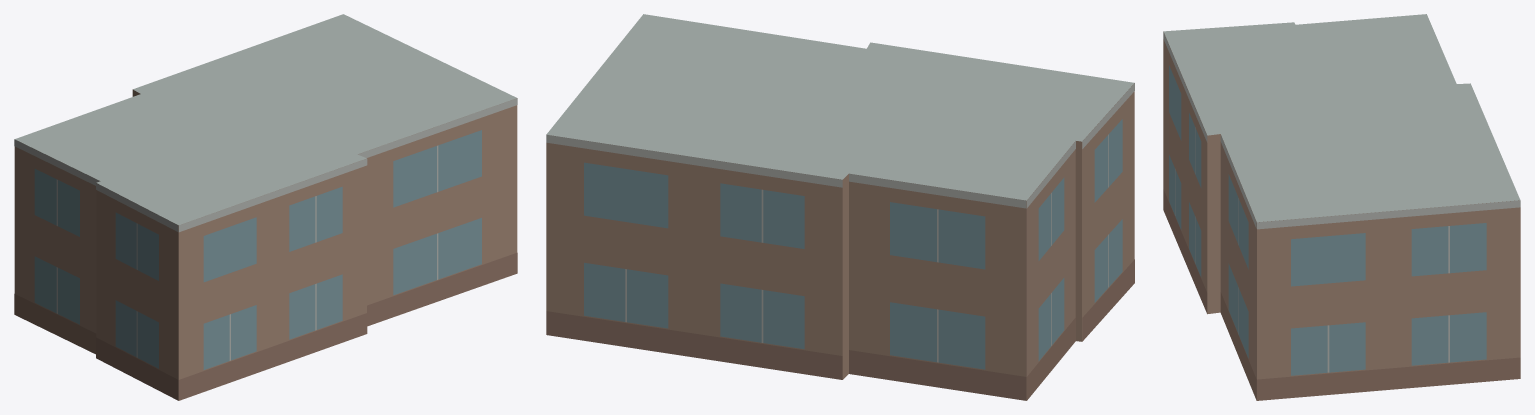
The model's file is survey-upis-32652783.glb.
The picture shows the model from 3 angles, left to right: view 1: azimuth 30°, elevation 25°; view 2: azimuth 150°, elevation 25°; view 3: azimuth 270°, elevation 25°; orthographic projection. The views are drawn at different scales.
Visible parts, largest first — view 1: survey-upis-32652783.tmp; view 2: survey-upis-32652783.tmp; view 3: survey-upis-32652783.tmp.
Part boxes in pixels (x1,y1,x2,y2): survey-upis-32652783.tmp: [14, 14, 517, 400]; survey-upis-32652783.tmp: [546, 14, 1134, 400]; survey-upis-32652783.tmp: [1163, 14, 1520, 400].
Size of the model in its own units: 15.27 by 6.1 by 11.07.
